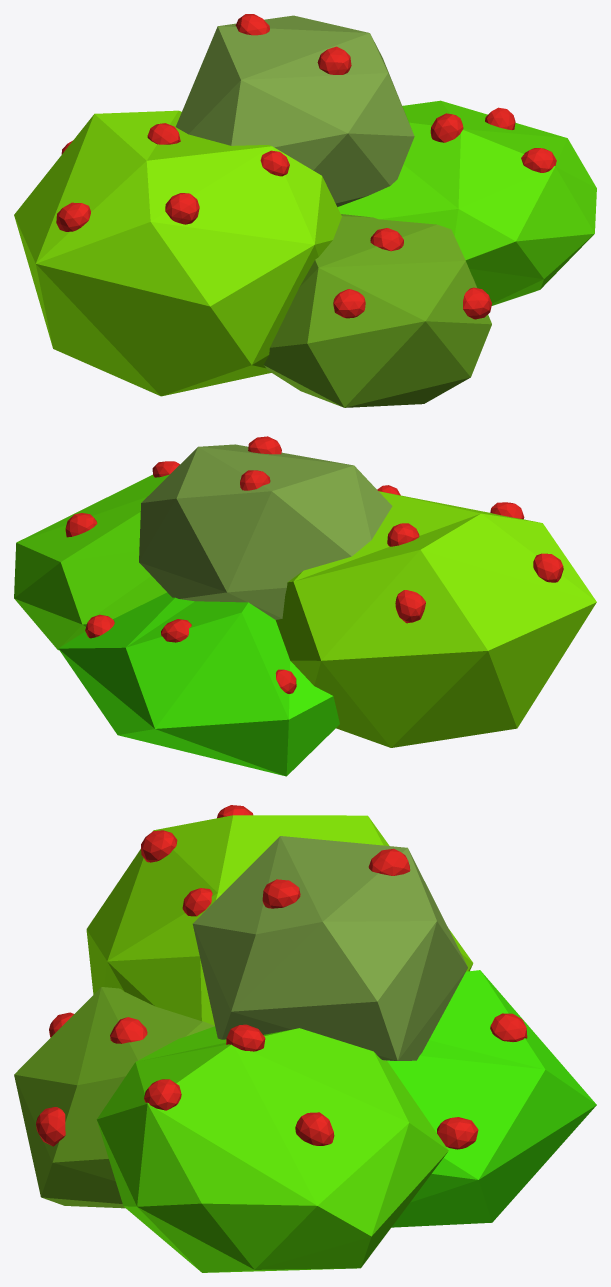
File: cust3.fbx
3 views of the same model, one above another, from view 1: azimuth 30°, elevation 25°; view 2: azimuth 150°, elevation 25°; view 3: azimuth 270°, elevation 25° (orthographic). The views are drawn at different scales.
Visible parts, largest first — view 1: Icosphere.002; view 2: Icosphere.002; view 3: Icosphere.002.
Boxes of the visible parts, x1,y1,x2,y2 form: Icosphere.002: [14, 14, 596, 407]; Icosphere.002: [14, 436, 596, 776]; Icosphere.002: [14, 805, 596, 1272].
Bounding box in the file's own units: 366 × 184 × 279.
